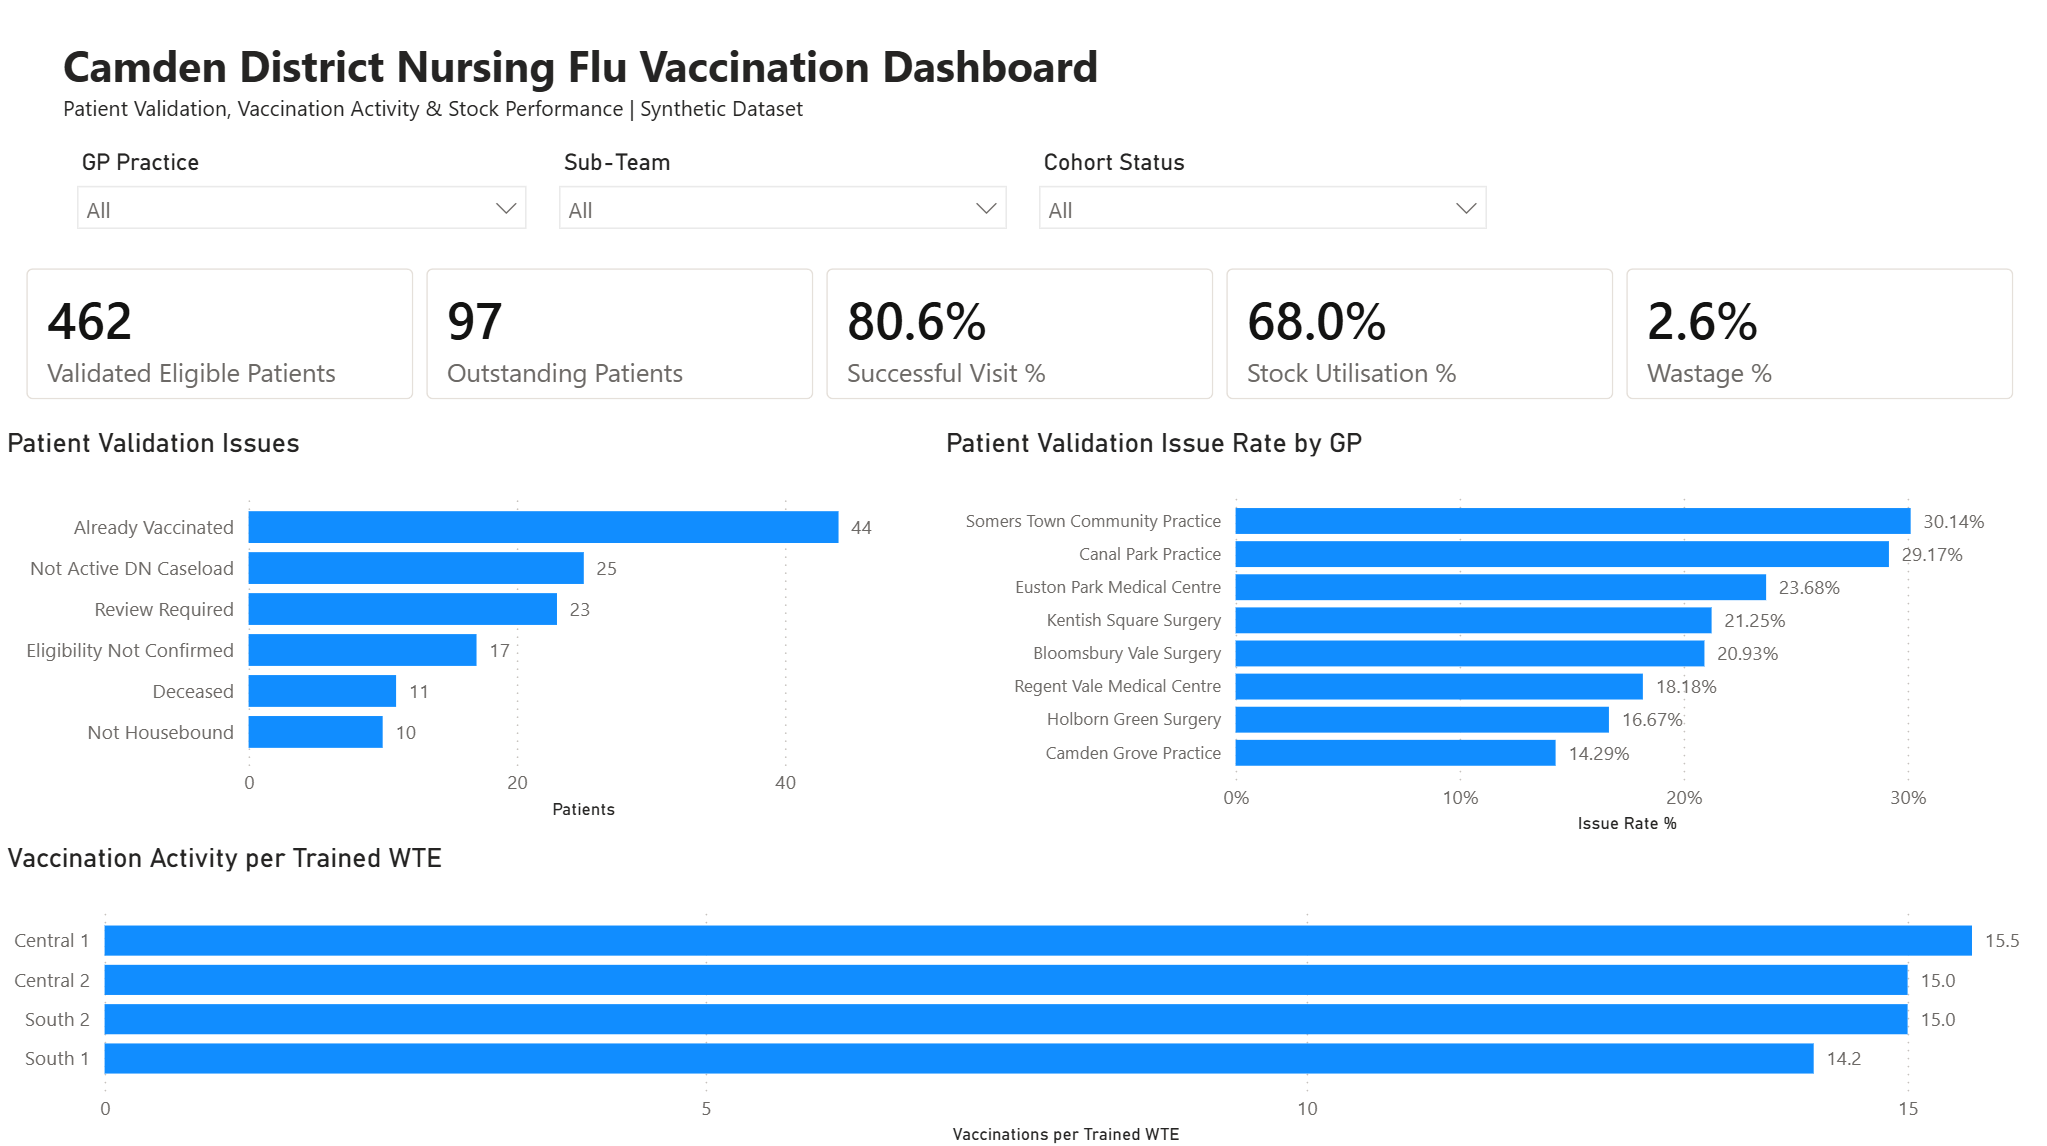

The dashboard page shown, as its layout file describes it:
{"tool":"powerbi","page":{"name":"Page 1","canvas":[1280,720],"ordinal":0},"visuals":[{"type":"barChart","title":"Patient Validation Issues","fields":{"Category":["Dim_Patient.cohort_status"],"Y":["Count(Dim_Patient.nhs_number)"]},"box":[0,267,587,250],"z":0},{"type":"cardVisual","fields":{"Data":["Dim_Patient.Validated Eligible Patients","Dim_Patient.Outstanding Patients","Dim_Patient.Successful Visit %","Dim_Patient.Stock Utilisation %","Dim_Patient.Wastage %"]},"box":[0,151,1279,116],"z":1000},{"type":"barChart","title":"Patient Validation Issue Rate by GP","fields":{"Category":["GPPracticesTable.gp_practice_name"],"Y":["Dim_Patient.Issue Rate %"]},"box":[587,267,693,259],"z":2000},{"type":"barChart","title":"Vaccination Activity per Trained WTE","fields":{"Category":["StaffTable.sub_team"],"Y":["Dim_Patient.Vaccinations per Trained WTE"]},"box":[0,526,1280,194],"z":3000},{"type":"slicer","title":"GP Practice","fields":{"Values":["GPPracticesTable.gp_practice_name"]},"box":[39,89,301,70],"z":4000},{"type":"slicer","fields":{"Values":["StaffTable.sub_team"]},"box":[340,89,300,71],"z":5000},{"type":"slicer","fields":{"Values":["Dim_Patient.cohort_status"]},"box":[640,89,300,71],"z":6000},{"type":"textbox","box":[35,18,671,71],"z":7000}]}

Visuals, with their boxes in screenshot pixels (x1, y1, x2, y2), scaled from the page's 1280x720 canvas onto the 2047x1146 screenshot:
"Patient Validation Issues" barChart: left=0, top=425, right=939, bottom=823
cardVisual - Dim_Patient.Validated Eligible Patients x Dim_Patient.Outstanding Patients: left=0, top=240, right=2045, bottom=425
"Patient Validation Issue Rate by GP" barChart: left=939, top=425, right=2046, bottom=837
"Vaccination Activity per Trained WTE" barChart: left=0, top=837, right=2046, bottom=1145
"GP Practice" slicer: left=62, top=142, right=544, bottom=253
slicer - StaffTable.sub_team: left=544, top=142, right=1024, bottom=255
slicer - Dim_Patient.cohort_status: left=1024, top=142, right=1503, bottom=255
textbox: left=56, top=29, right=1129, bottom=142
